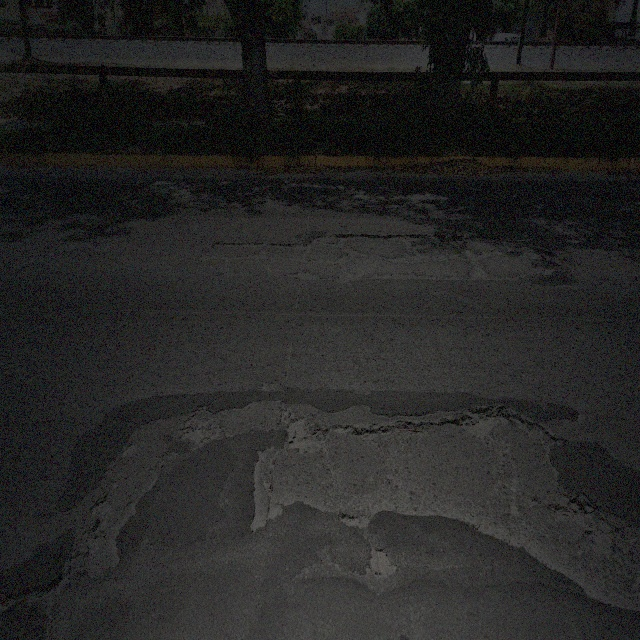pothole: (250, 389, 605, 611), (59, 397, 208, 581), (316, 224, 559, 294), (286, 412, 320, 454), (369, 544, 396, 581)
